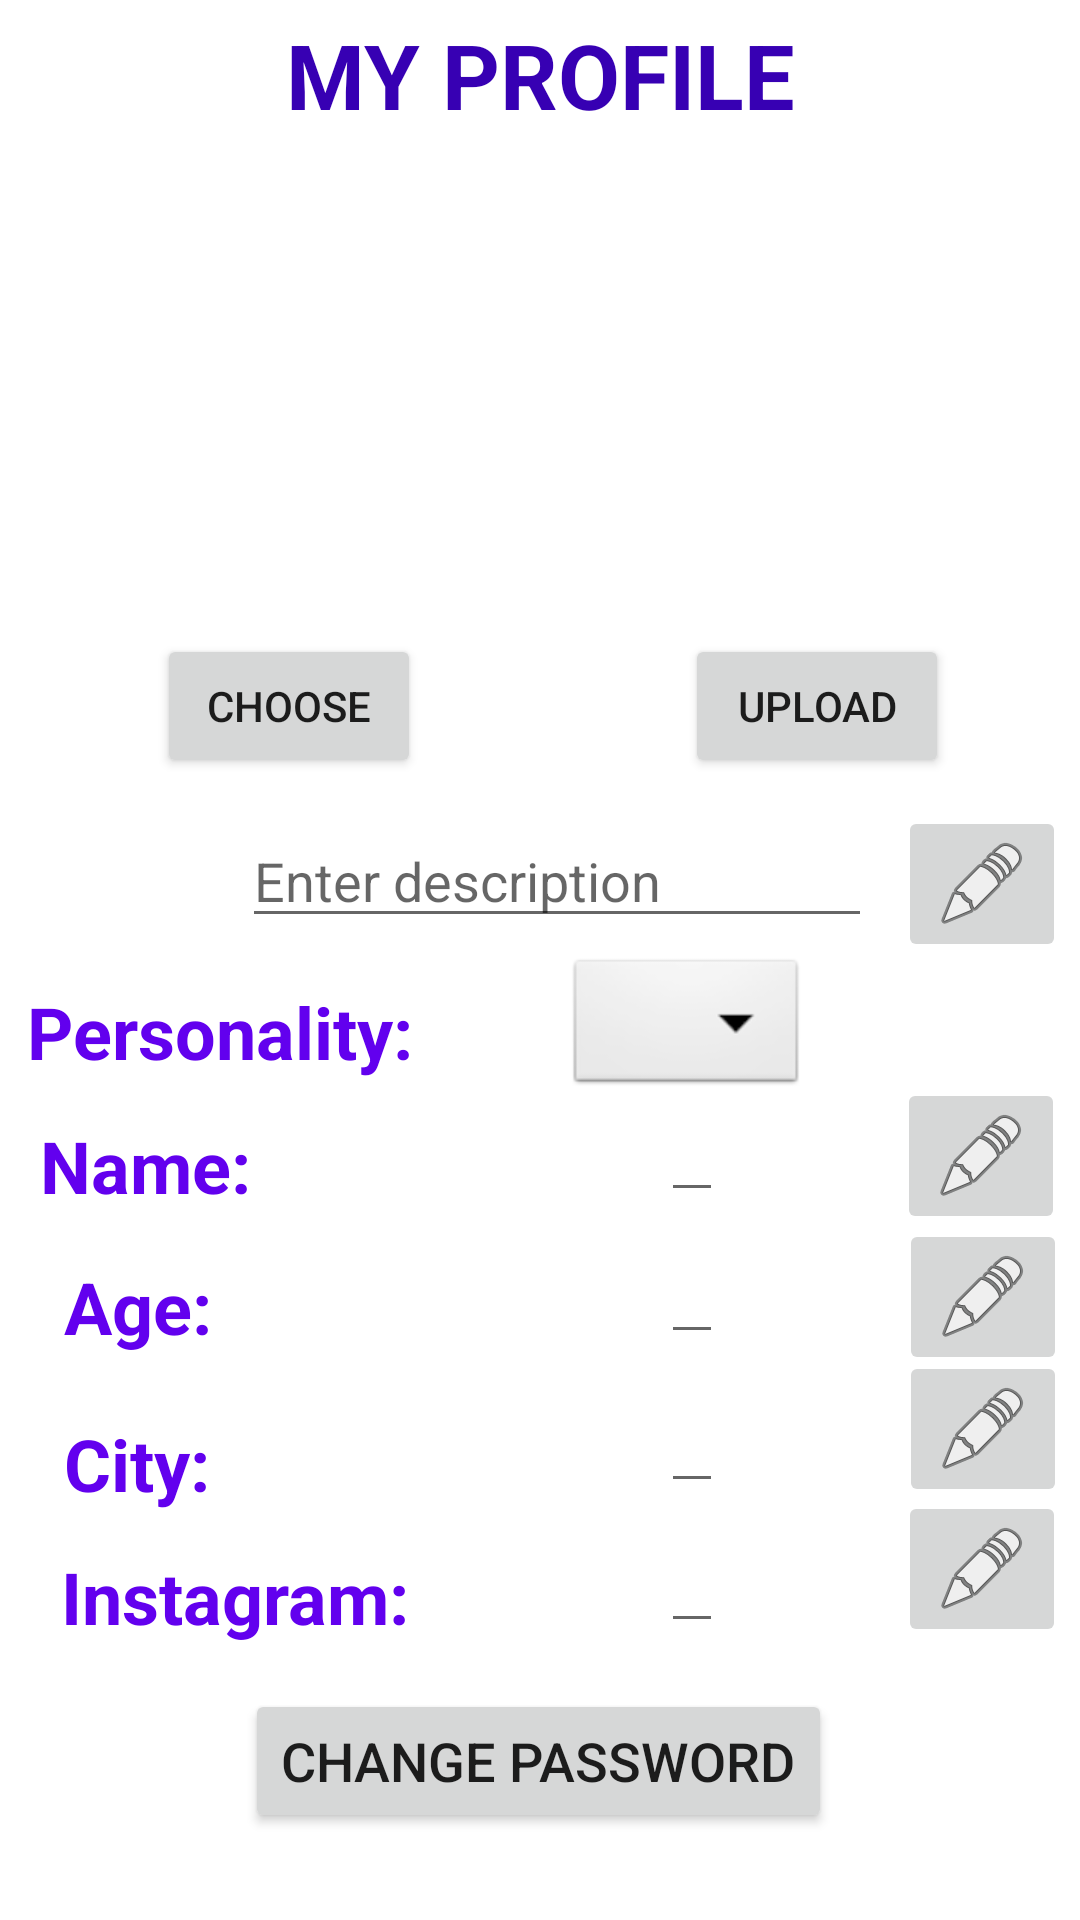

Named icons in this screenshot (1080x1920) and their bounding boxes, (x1, y1, x2, y2):
edit: (910, 824, 1054, 944), (909, 1096, 1053, 1216), (911, 1237, 1055, 1357), (911, 1369, 1055, 1489), (910, 1509, 1054, 1629)
